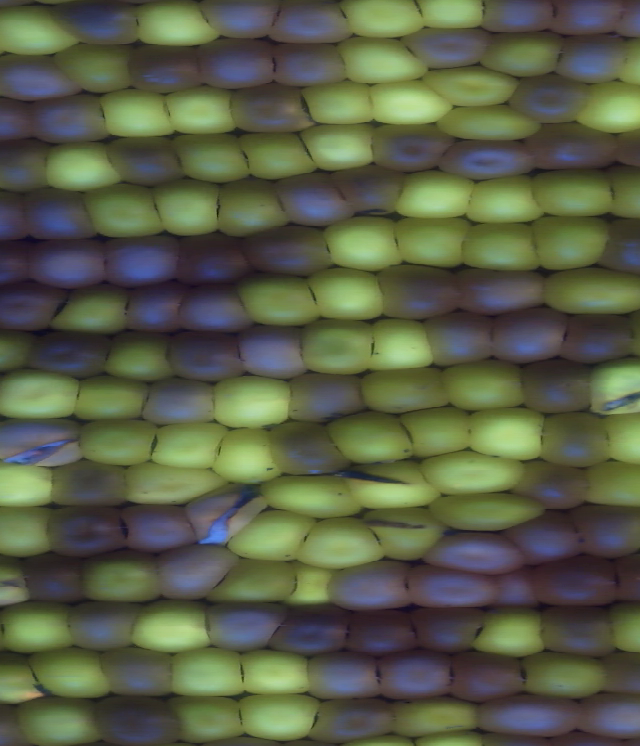fluorescent: (68, 544, 172, 612), (356, 502, 461, 566), (221, 502, 321, 568), (20, 637, 120, 703), (535, 259, 640, 321), (411, 447, 533, 500), (352, 361, 460, 420), (77, 179, 175, 244), (433, 356, 534, 419), (295, 313, 387, 382), (202, 368, 298, 434), (253, 469, 372, 522), (320, 405, 420, 468), (292, 512, 393, 574), (44, 276, 136, 343), (522, 160, 624, 220), (161, 641, 253, 707), (385, 164, 482, 226), (231, 267, 328, 329), (123, 596, 219, 658), (526, 211, 616, 277), (461, 404, 551, 470), (331, 31, 437, 87), (424, 488, 550, 535), (203, 549, 305, 607), (68, 411, 163, 473), (39, 135, 131, 199), (303, 260, 392, 326), (515, 644, 618, 701), (456, 216, 549, 278), (316, 211, 409, 273), (158, 688, 257, 746), (50, 40, 144, 101), (233, 686, 328, 745), (0, 361, 86, 426), (159, 78, 246, 142), (338, 459, 443, 512), (212, 174, 295, 241), (387, 211, 475, 274), (293, 115, 382, 177), (11, 692, 113, 746), (392, 400, 476, 465), (144, 416, 233, 477), (233, 126, 325, 185), (68, 365, 154, 428), (475, 26, 570, 83), (461, 169, 552, 228), (417, 61, 522, 112), (0, 594, 82, 659), (150, 172, 227, 241), (464, 603, 551, 664), (128, 1, 226, 54), (361, 311, 442, 375), (205, 421, 287, 484), (93, 85, 181, 143), (230, 642, 318, 700), (96, 327, 180, 387), (169, 128, 255, 186), (0, 1, 83, 61), (383, 692, 486, 740), (362, 76, 456, 128), (294, 76, 384, 129), (433, 104, 548, 145), (567, 77, 640, 138), (329, 1, 432, 42), (0, 501, 64, 564), (0, 456, 68, 514), (583, 352, 640, 420), (574, 456, 640, 512), (0, 642, 47, 713), (282, 557, 341, 611), (600, 595, 640, 663), (409, 1, 492, 33), (601, 156, 640, 224), (600, 406, 640, 468), (0, 322, 42, 380), (0, 552, 38, 613), (610, 30, 640, 91)
nonfluorescent: (180, 473, 272, 551), (235, 221, 341, 283), (469, 690, 595, 742), (373, 260, 472, 326), (530, 597, 627, 664), (518, 119, 627, 178), (417, 529, 533, 584), (85, 687, 192, 746), (444, 263, 554, 320), (527, 550, 628, 612), (195, 596, 292, 660), (484, 303, 576, 370), (395, 558, 507, 613), (325, 556, 422, 619), (502, 510, 597, 573), (368, 641, 460, 706), (37, 501, 135, 562), (19, 234, 115, 296), (97, 229, 189, 293), (97, 129, 190, 192), (280, 366, 374, 428), (264, 415, 352, 481), (172, 227, 262, 291), (227, 78, 319, 140), (364, 118, 459, 178), (263, 601, 358, 661), (97, 640, 186, 704), (162, 324, 250, 388), (324, 158, 413, 221), (502, 70, 597, 129), (19, 182, 105, 247), (44, 451, 132, 514), (116, 497, 204, 560), (151, 540, 239, 603), (23, 324, 115, 384), (59, 592, 148, 654), (395, 22, 499, 75), (436, 132, 540, 185), (268, 168, 354, 232), (511, 354, 597, 418), (443, 643, 531, 705), (302, 694, 406, 746), (134, 372, 225, 431), (0, 46, 88, 107), (298, 647, 390, 705), (0, 412, 87, 473), (552, 309, 640, 369), (408, 599, 493, 661), (190, 36, 280, 94), (23, 90, 113, 148), (230, 320, 309, 386), (550, 29, 635, 90), (263, 38, 357, 93), (418, 308, 500, 371), (122, 42, 212, 97), (340, 607, 430, 662), (510, 456, 595, 514), (173, 279, 254, 339), (45, 1, 143, 49), (261, 1, 359, 49), (183, 1, 286, 45), (0, 134, 63, 204), (15, 548, 87, 609), (120, 280, 194, 339), (0, 274, 69, 337), (570, 500, 640, 561), (566, 686, 640, 740), (473, 1, 565, 42), (546, 1, 633, 41), (593, 213, 640, 281), (484, 567, 548, 615), (595, 644, 640, 703), (0, 93, 43, 146), (604, 546, 640, 609), (0, 239, 39, 297), (0, 187, 35, 248), (607, 119, 640, 178), (0, 696, 30, 746), (610, 1, 640, 45)
